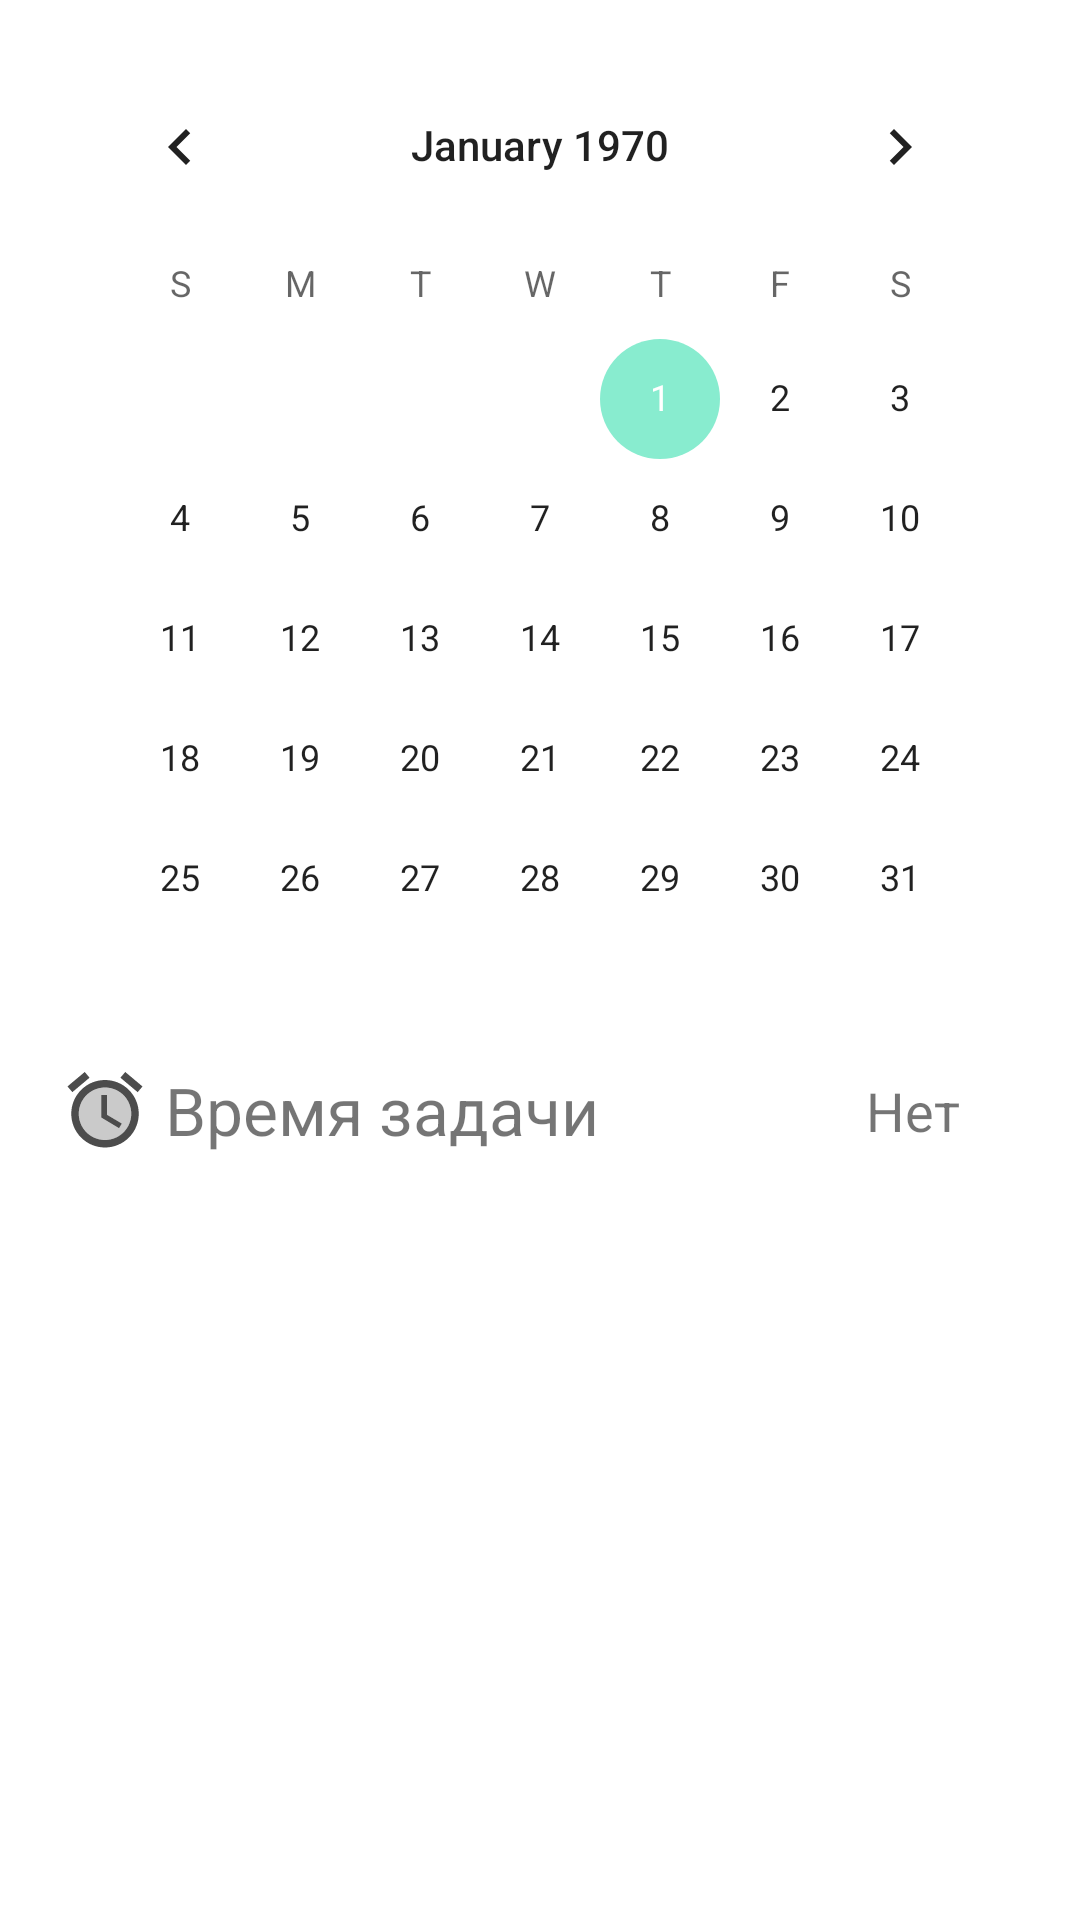

Screen size 1080px x 1920px. Icon name, then its box in pixels as bbox=(x1, y1, x2, y2):
alarm: bbox=(67, 1072, 143, 1148)
